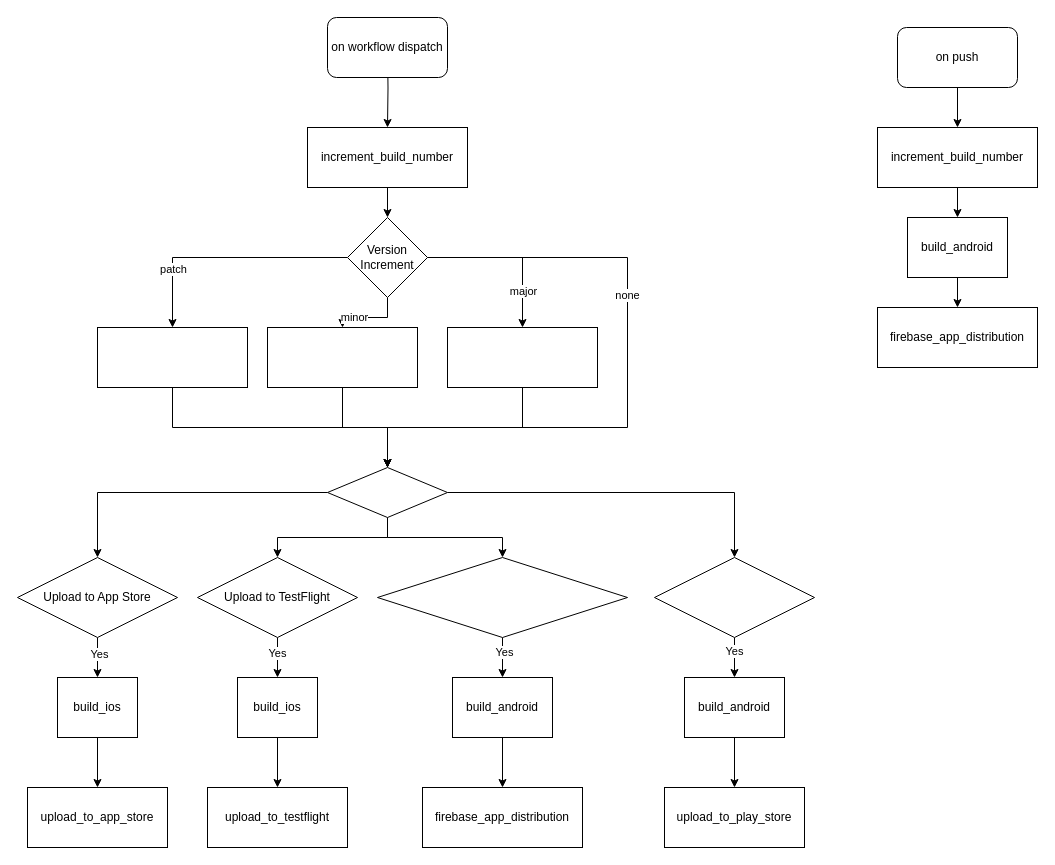
Image size: 1055x865. Some labels were removed from this diagram. The shapes that lost their labels are listed below. From the top down, each one's centre as x and y in pixels, then its label:
At [172,357]: "increase_version_patch".
At [342,357]: "increase_version_minor".
At [522,357]: "increase_version_major".
At [387,492]: "Upload Choice".
At [502,597]: "Upload to Firebase App Distribution".
At [734,597]: "Upload to Play Store".
